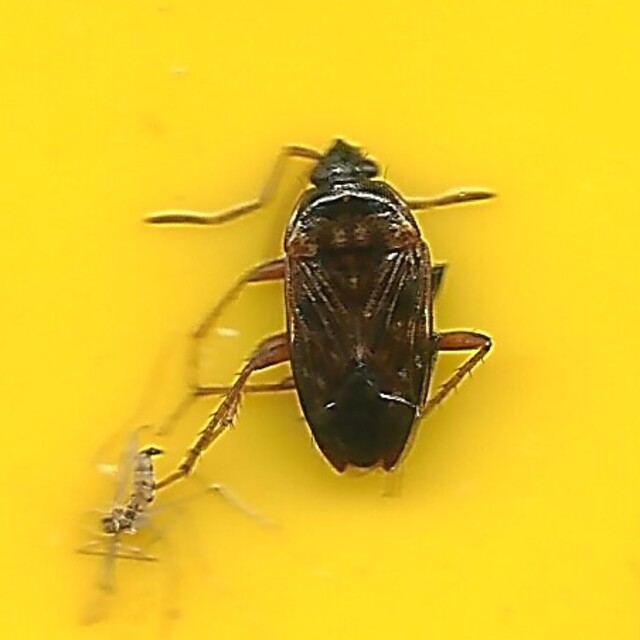Hemiptera: (142, 134, 498, 506)
